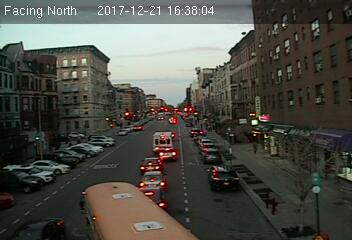car: (207, 165, 241, 192), (138, 170, 167, 190), (140, 155, 161, 173), (200, 148, 222, 163), (158, 146, 177, 160)
truck: (153, 131, 173, 152)
